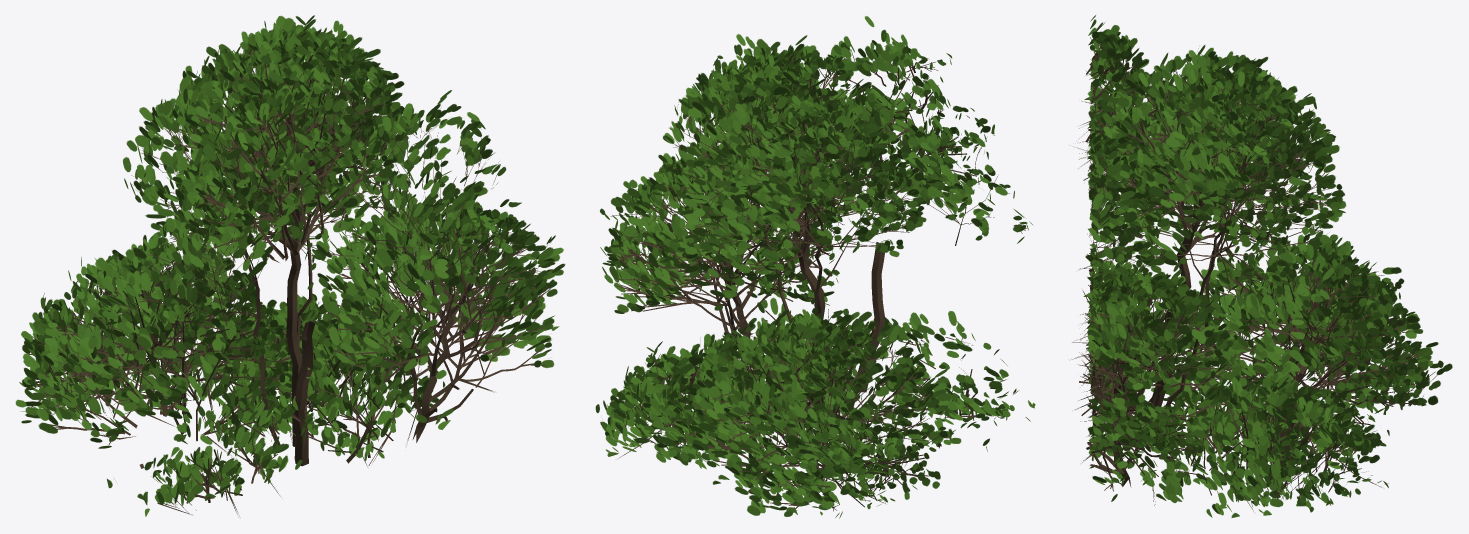
The picture shows the model from 3 angles, left to right: view 1: azimuth 30°, elevation 25°; view 2: azimuth 150°, elevation 25°; view 3: azimuth 270°, elevation 25°; orthographic projection. The views are drawn at different scales.
Parts seen in each view (by area): view 1: oak 01.001_trunk_Mat.001_0.331; view 2: oak 01.001_trunk_Mat.001_0.331; view 3: oak 01.001_trunk_Mat.001_0.331.
Part boxes in pixels (left/top/right/bottom): oak 01.001_trunk_Mat.001_0.331: left=15, top=15, right=565, bottom=516; oak 01.001_trunk_Mat.001_0.331: left=595, top=16, right=1035, bottom=518; oak 01.001_trunk_Mat.001_0.331: left=1072, top=15, right=1452, bottom=517.
Bounding box in the file's own units: 4.15 × 3.75 × 3.15.
2 materials, 1 textured.
